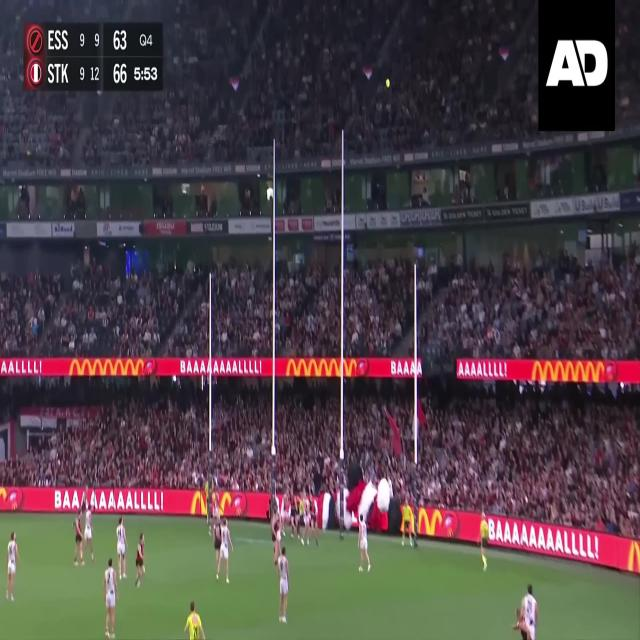crowd: (0, 382, 640, 537), (1, 0, 537, 168), (0, 252, 640, 360)
